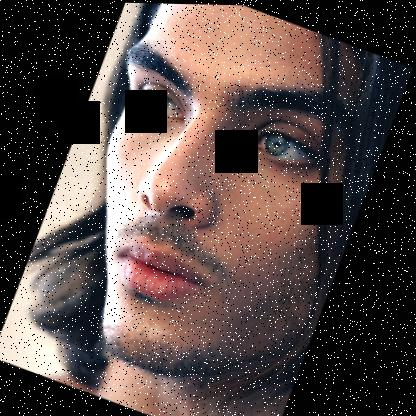Male: (25, 1, 413, 416)
